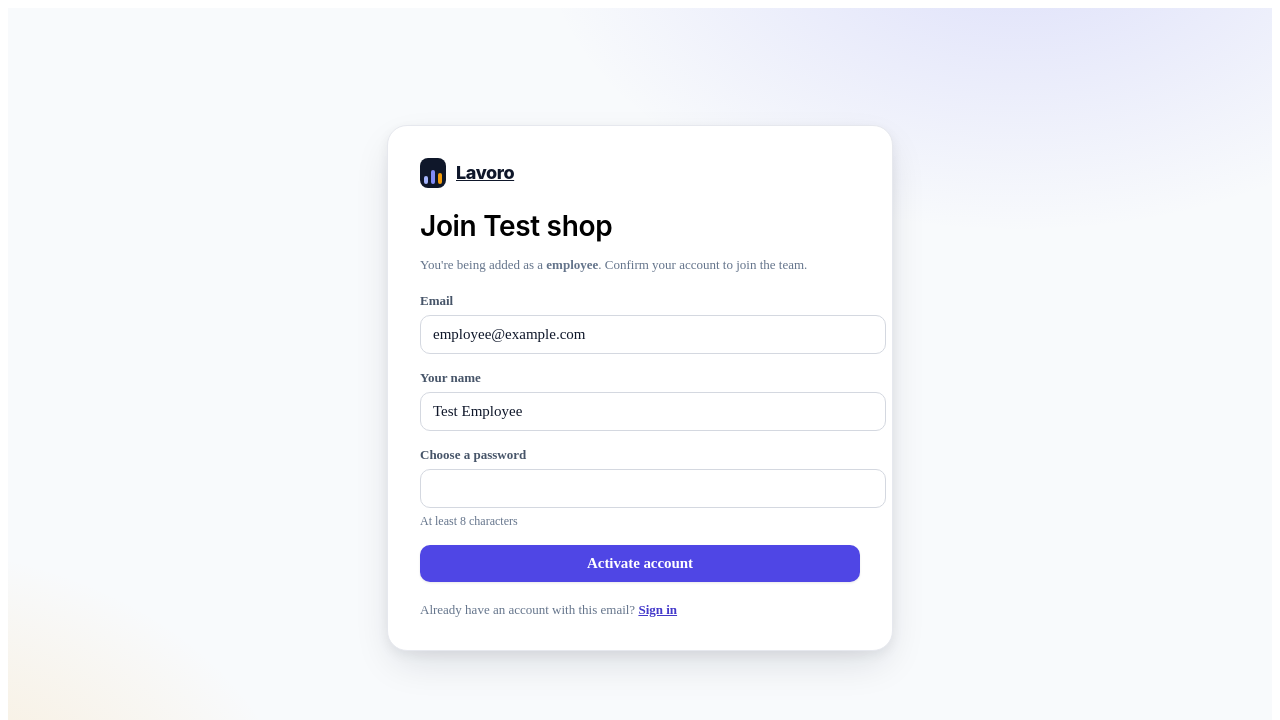
Test: does not consume a code when account creation fails and allows retry
Later steps or results of the test are not shown.
Expected: the heading "Join Test shop" is shown, [420, 209, 612, 243]
Step 1. Type "StrongPassword123!" into the password field labelled "Choose a password" → (653, 489), box [420, 469, 886, 508]
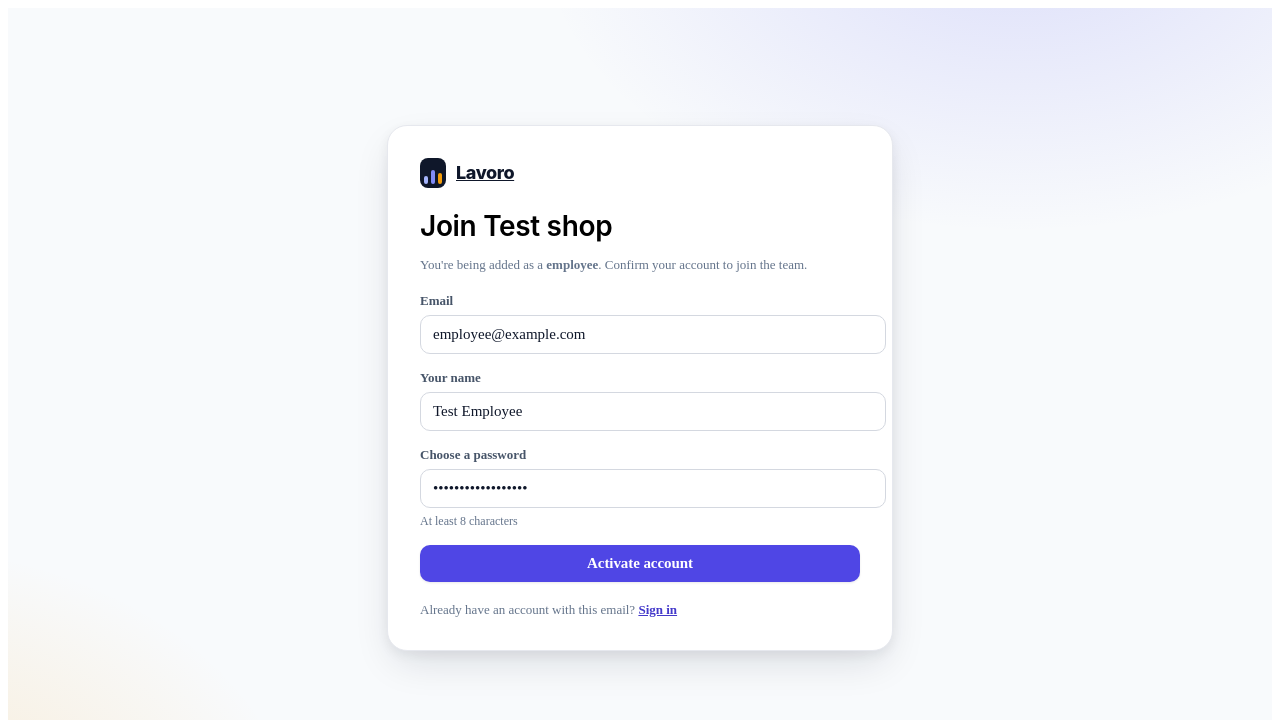
Step 2. Click the button "Activate account" → (640, 564), box [420, 545, 860, 582]
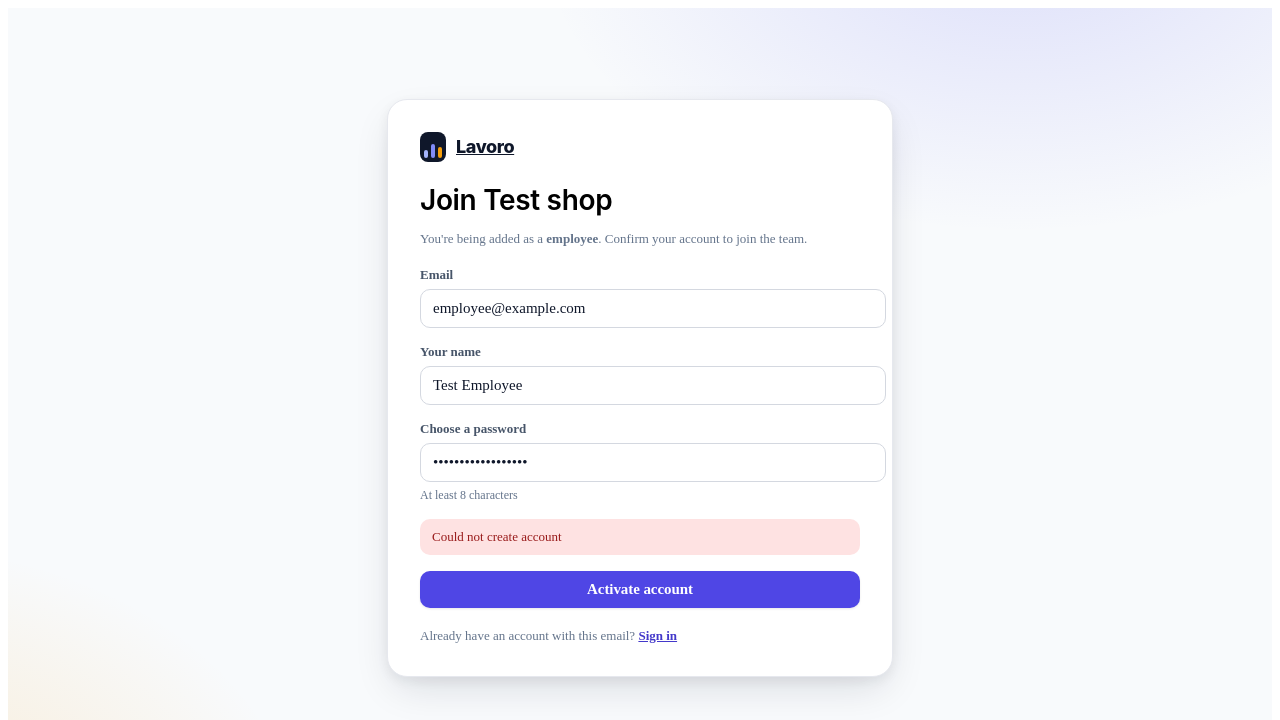
Result: the text "Could not create account" is shown at [420, 519, 860, 555]
